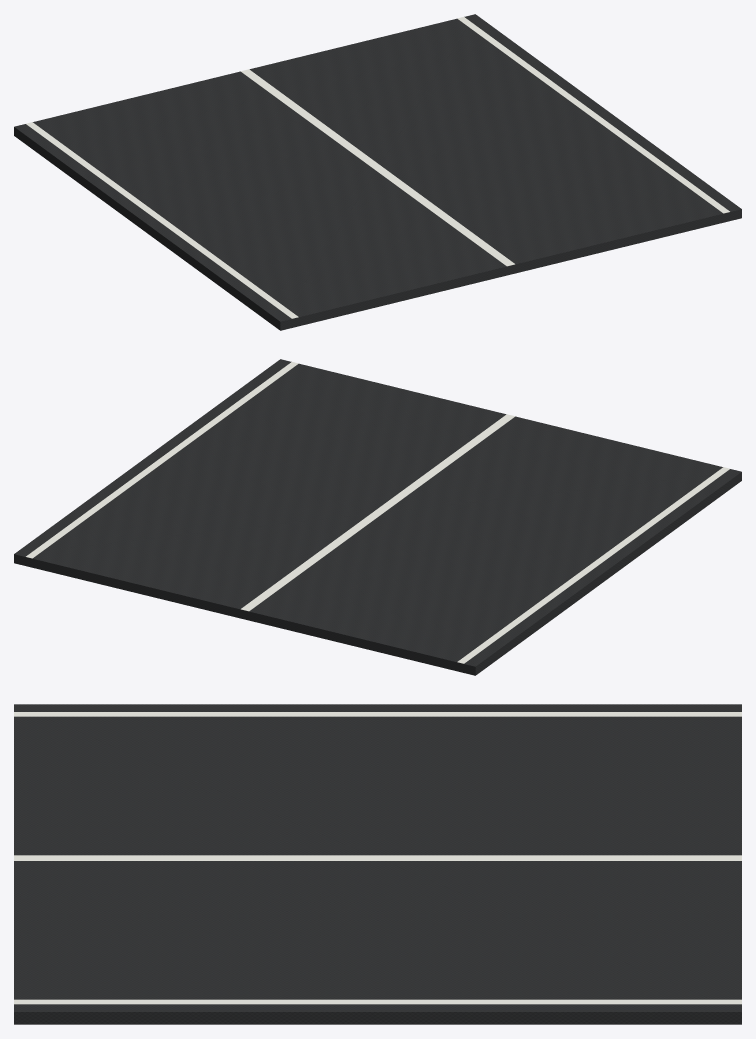
The model's file is OAR_Road_Straight_Solid_8m.fbx.
3 renders of one model, top to bottom at view 1: azimuth 30°, elevation 25°; view 2: azimuth 150°, elevation 25°; view 3: azimuth 270°, elevation 25°, orthographic. The views are drawn at different scales.
Visible parts, largest first — view 1: Body, Markings.009_Mesh; view 2: Body, Markings.009_Mesh; view 3: Body, Markings.009_Mesh.
Part boxes in pixels (x1=…): Body: x1=14, y1=14, x2=741, y2=330; Markings.009_Mesh: x1=26, y1=17, x2=729, y2=318; Body: x1=14, y1=359, x2=741, y2=675; Markings.009_Mesh: x1=26, y1=362, x2=729, y2=663; Body: x1=14, y1=704, x2=741, y2=1024; Markings.009_Mesh: x1=14, y1=712, x2=741, y2=1004.
Size of the model in its own units: 8 by 0.153 by 8.
